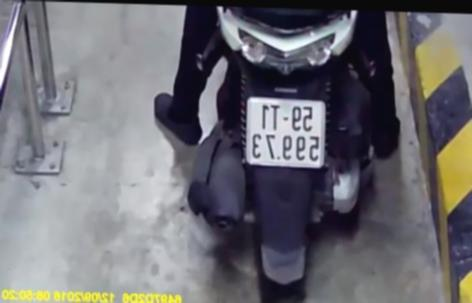License_Plate: (237, 95, 332, 172)
